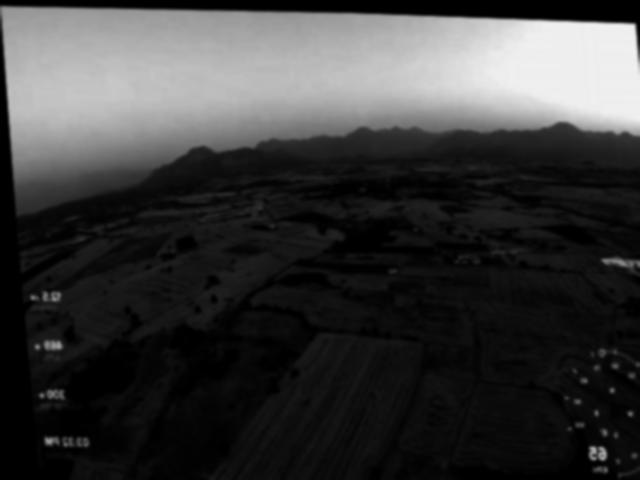hedef: (590, 247, 640, 286)
